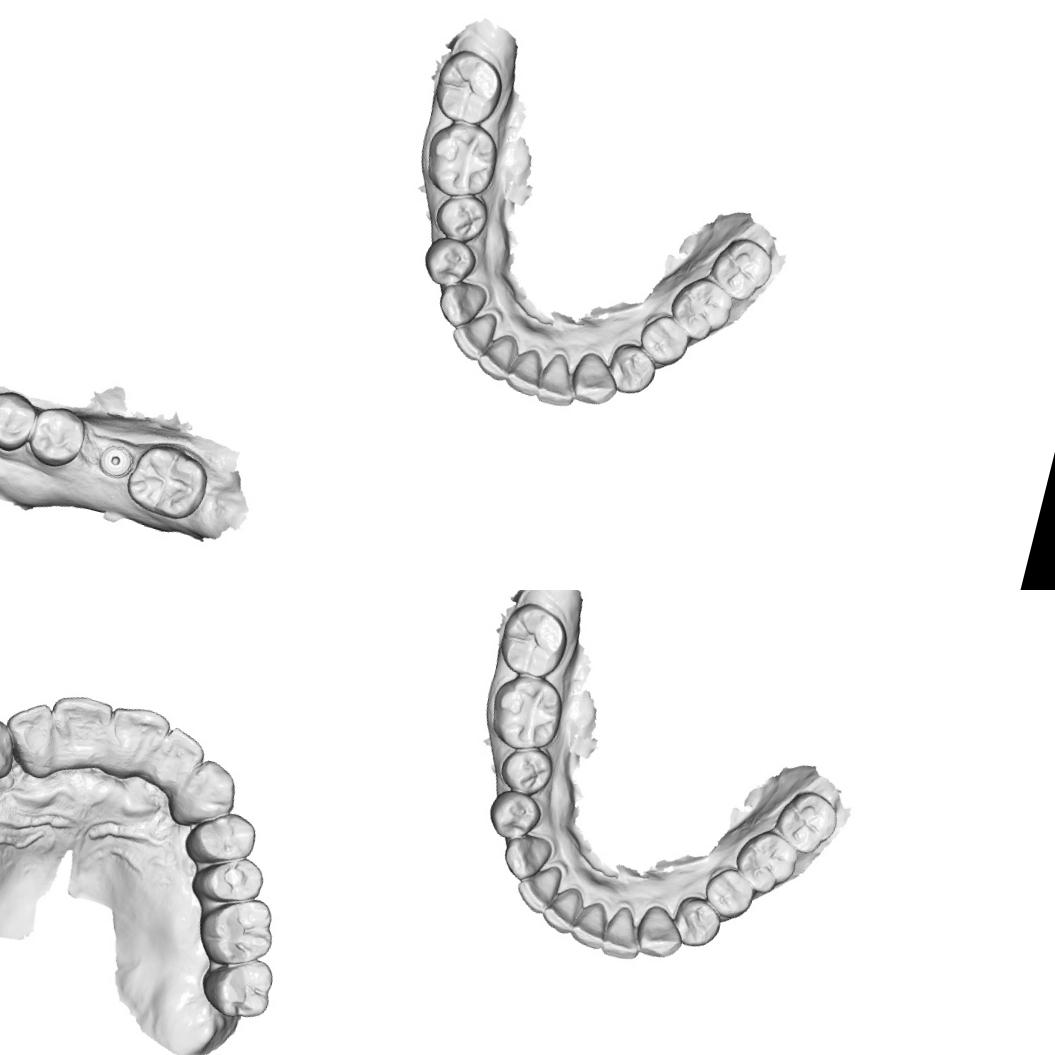canine: (167, 752, 244, 834), (630, 900, 689, 964), (565, 348, 624, 410), (432, 275, 490, 333), (498, 828, 555, 886), (0, 708, 22, 783)
implant: (91, 436, 140, 486)
incisor: (38, 687, 115, 777), (96, 698, 173, 788), (0, 694, 65, 779), (150, 724, 210, 798), (533, 349, 583, 411), (598, 902, 648, 964), (512, 858, 564, 917), (447, 305, 498, 364), (472, 327, 520, 384), (538, 880, 586, 937), (568, 897, 612, 952), (503, 344, 547, 398)
molar: (118, 434, 217, 528), (416, 112, 504, 205), (482, 665, 570, 758), (190, 886, 282, 974), (428, 42, 510, 130), (493, 596, 575, 684), (194, 947, 278, 1025), (663, 269, 739, 347), (728, 822, 804, 900), (704, 232, 778, 306), (768, 784, 842, 858)
premolar: (180, 802, 260, 874), (186, 846, 268, 914), (22, 399, 92, 475), (494, 740, 558, 800), (634, 308, 694, 370), (418, 232, 480, 292), (698, 861, 758, 922), (430, 187, 492, 246), (482, 786, 544, 844), (603, 338, 660, 398), (668, 891, 725, 951), (0, 378, 43, 457)
